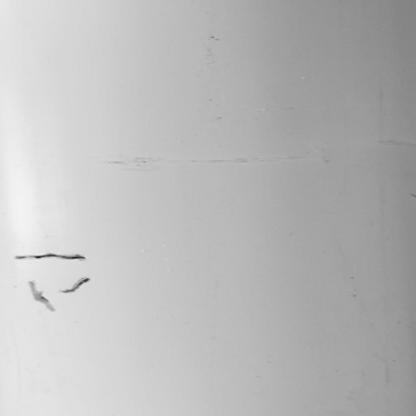fengxi: (30, 279, 55, 313), (14, 252, 87, 262), (60, 278, 92, 295)
